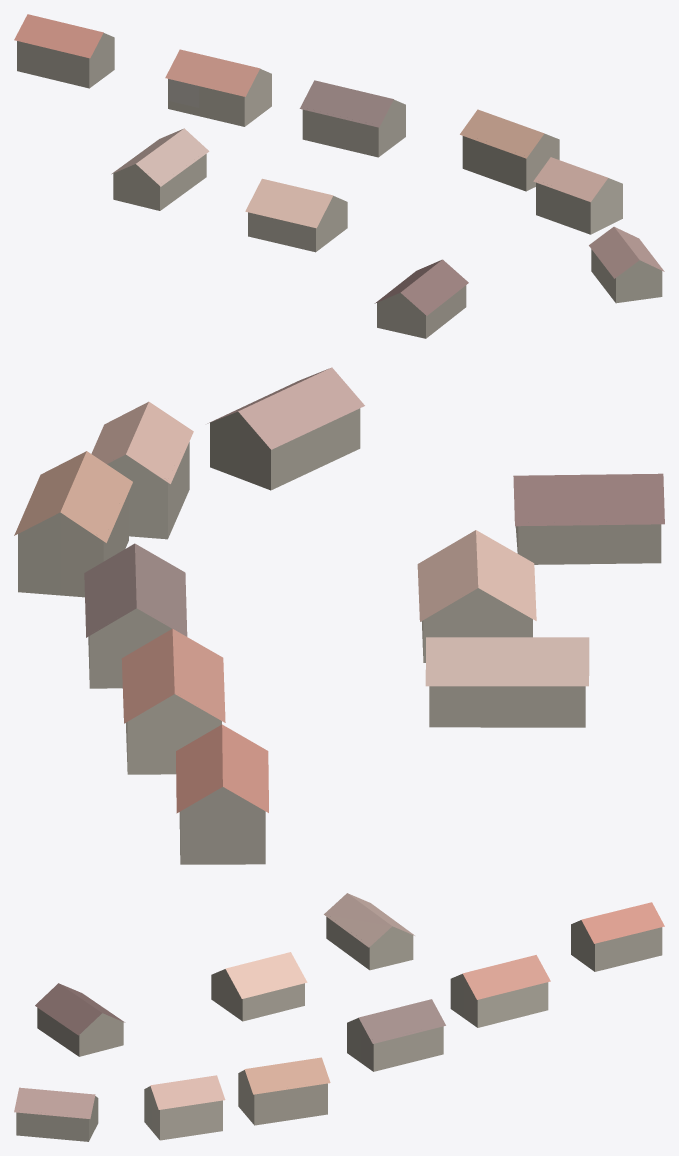
The picture shows the model from 3 angles, top to bottom: view 1: azimuth 30°, elevation 25°; view 2: azimuth 150°, elevation 25°; view 3: azimuth 270°, elevation 25°; orthographic projection. The views are drawn at different scales.
Parts seen in each view (by area): view 1: tuile; view 2: tuile; view 3: tuile.
Part boxes in pixels (left/top/right/bottom): tuile: left=14, top=14, right=664, bottom=338; tuile: left=14, top=367, right=664, bottom=864; tuile: left=14, top=893, right=664, bottom=1141.
Bounding box in the file's own units: 76.28 × 19.18 × 114.
